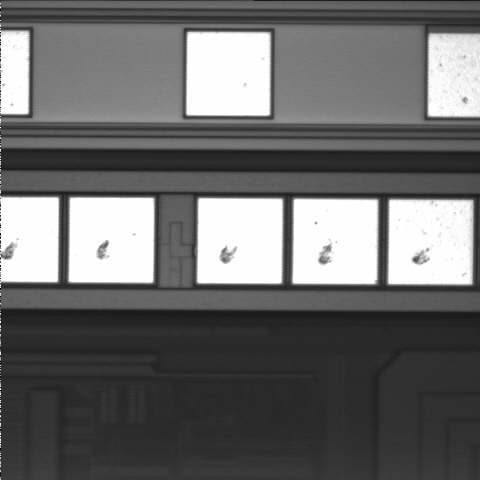pad: (197, 198, 283, 284), (69, 198, 154, 283), (293, 199, 378, 284), (388, 200, 473, 284), (187, 32, 270, 116)
